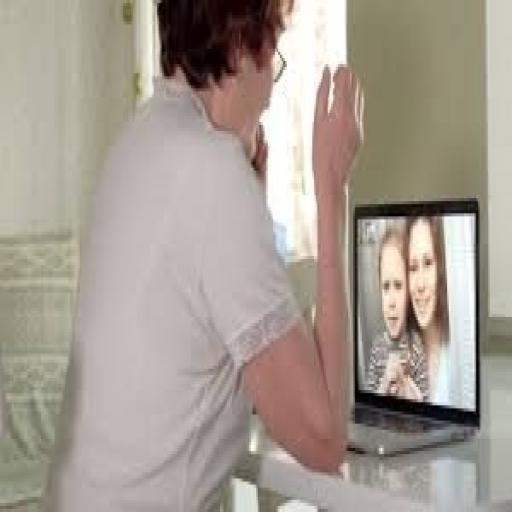using_laptop: (343, 192, 481, 457)
